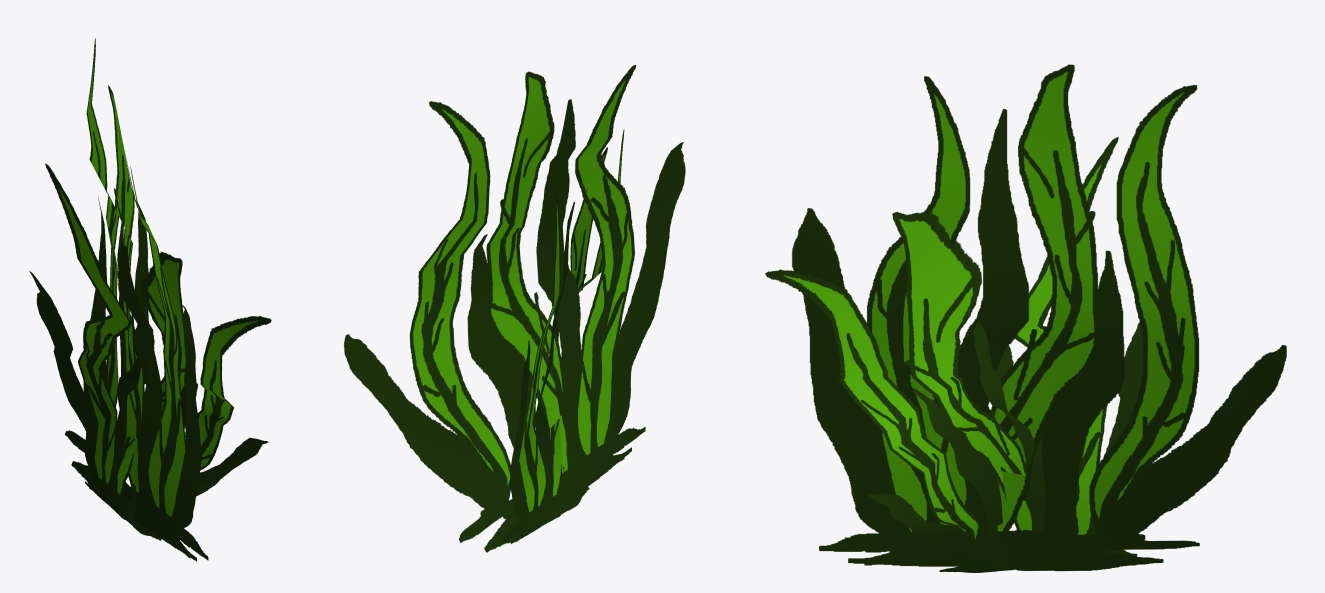
The model's file is Kelp_1_P.glb.
The picture shows the model from 3 angles, left to right: view 1: azimuth 30°, elevation 25°; view 2: azimuth 150°, elevation 25°; view 3: azimuth 270°, elevation 25°; orthographic projection. The views are drawn at different scales.
Visible parts, largest first — view 1: Kelp; view 2: Kelp; view 3: Kelp.
Boxes of the visible parts, left/top/right/bottom form: Kelp: left=29, top=38, right=271, bottom=561; Kelp: left=344, top=65, right=685, bottom=552; Kelp: left=765, top=64, right=1286, bottom=572.
Size of the model in its own units: 0.6223 by 1.79 by 1.74.
Materials: 1 (1 with a texture image).
